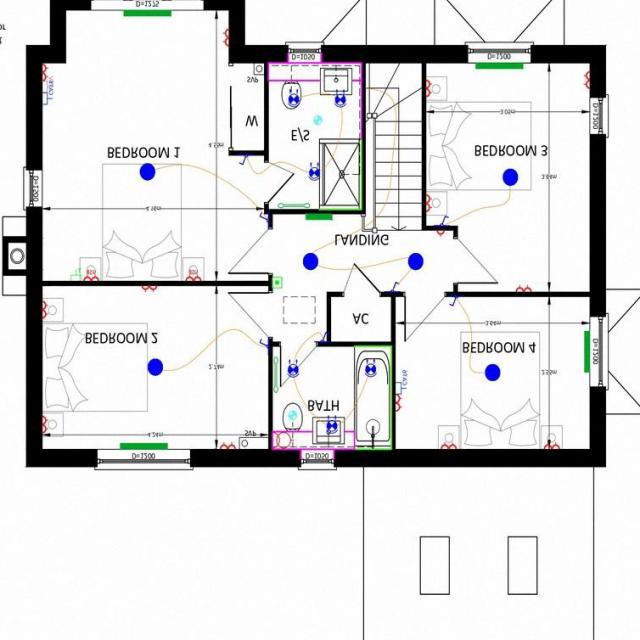Cat 6 Data Socket: (394, 371, 406, 395), (42, 82, 52, 106)
Ceiling Mounted Continuous Extract FanWith Boost Mode Activated By Light Switch: (313, 116, 321, 126), (288, 412, 296, 421)
Double Socket: (514, 284, 532, 293), (394, 394, 402, 412), (542, 442, 560, 450), (439, 442, 456, 450), (425, 195, 432, 213), (582, 71, 589, 89), (42, 64, 49, 82), (219, 443, 235, 450), (42, 416, 48, 434), (425, 80, 431, 98), (222, 29, 228, 47), (141, 287, 156, 294), (42, 302, 48, 319)
Full Height Tiling: (355, 346, 391, 451), (320, 142, 362, 211)
Light Switch: (389, 282, 399, 293), (258, 339, 267, 349), (448, 298, 458, 307), (439, 216, 448, 226), (258, 212, 267, 222), (238, 157, 248, 166), (320, 332, 327, 342)
Low Energy Downlighter: (325, 416, 338, 435), (363, 360, 376, 378), (307, 163, 319, 182), (287, 89, 299, 108), (334, 90, 346, 108), (287, 360, 298, 378)
Low Energy Pendant Light: (138, 164, 156, 182), (146, 359, 162, 377), (484, 364, 500, 382), (407, 254, 423, 272), (302, 254, 318, 271), (502, 170, 517, 188)
Programmable Room Thermostat: (272, 278, 282, 288)
Radiator: (475, 62, 522, 70), (120, 443, 166, 451), (123, 10, 171, 17), (584, 332, 589, 373), (305, 215, 332, 220)
Shaver Socket: (270, 434, 294, 449)
Single Socket: (435, 232, 444, 238)
TV - Satellite Multisocket: (42, 78, 52, 93)
USB Double Socket: (82, 270, 100, 282), (184, 271, 202, 282)
